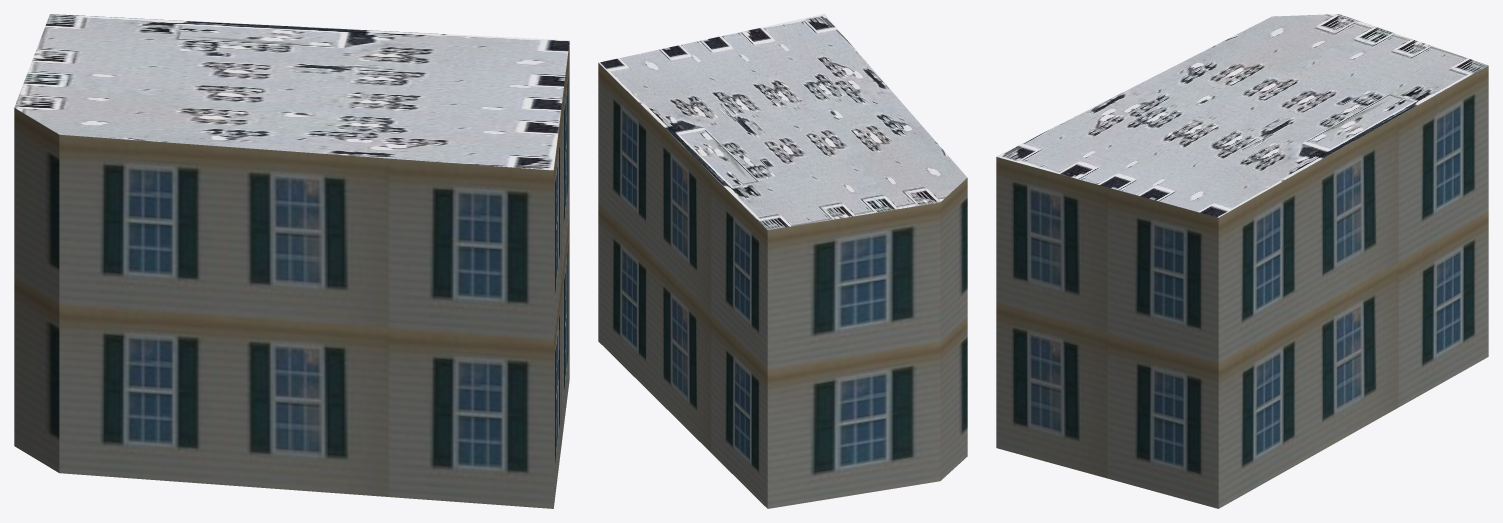
File: ResTex__2203.fbx
3 views of the same model, side by side, from view 1: azimuth 30°, elevation 25°; view 2: azimuth 150°, elevation 25°; view 3: azimuth 270°, elevation 25° (orthographic). The views are drawn at different scales.
Parts seen in each view (by area): view 1: CityEngineMaterial_7_m, CityEngineMaterial_8_m; view 2: CityEngineMaterial_7_m, CityEngineMaterial_8_m; view 3: CityEngineMaterial_7_m, CityEngineMaterial_8_m.
Part boxes in pixels (x1,y1,x2,y2): CityEngineMaterial_7_m: (14,42,569,508); CityEngineMaterial_8_m: (14,14,569,170); CityEngineMaterial_7_m: (598,63,967,508); CityEngineMaterial_8_m: (599,14,967,229); CityEngineMaterial_7_m: (996,66,1488,508); CityEngineMaterial_8_m: (996,14,1488,217).
Bounding box in the file's own units: 9 × 6 × 9.2.
Materials: 2 (2 with a texture image).
